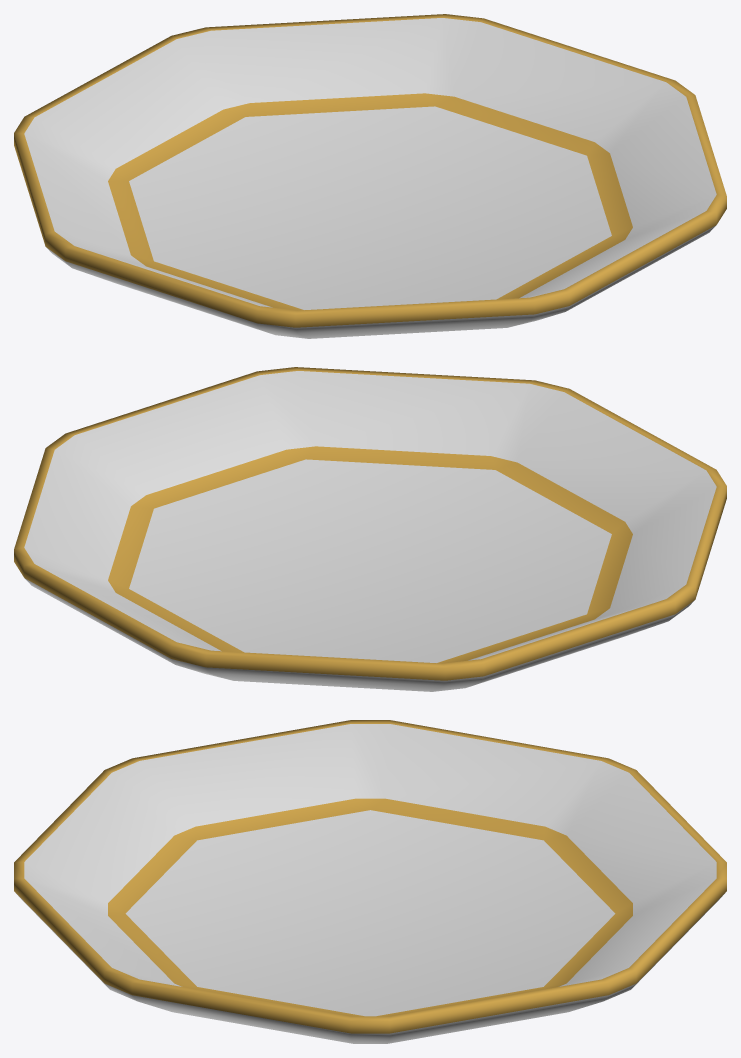
The model's file is jadalnia_talerz.fbx.
3 renders of one model, top to bottom at view 1: azimuth 30°, elevation 25°; view 2: azimuth 150°, elevation 25°; view 3: azimuth 270°, elevation 25°, orthographic. The views are drawn at different scales.
Parts seen in each view (by area): view 1: Cylinder; view 2: Cylinder; view 3: Cylinder.
Part boxes in pixels (left/top/right/bottom): Cylinder: left=14, top=14, right=726, bottom=338; Cylinder: left=14, top=367, right=726, bottom=691; Cylinder: left=14, top=720, right=726, bottom=1043.
Size of the model in its own units: 58.59 by 5.57 by 58.59.
